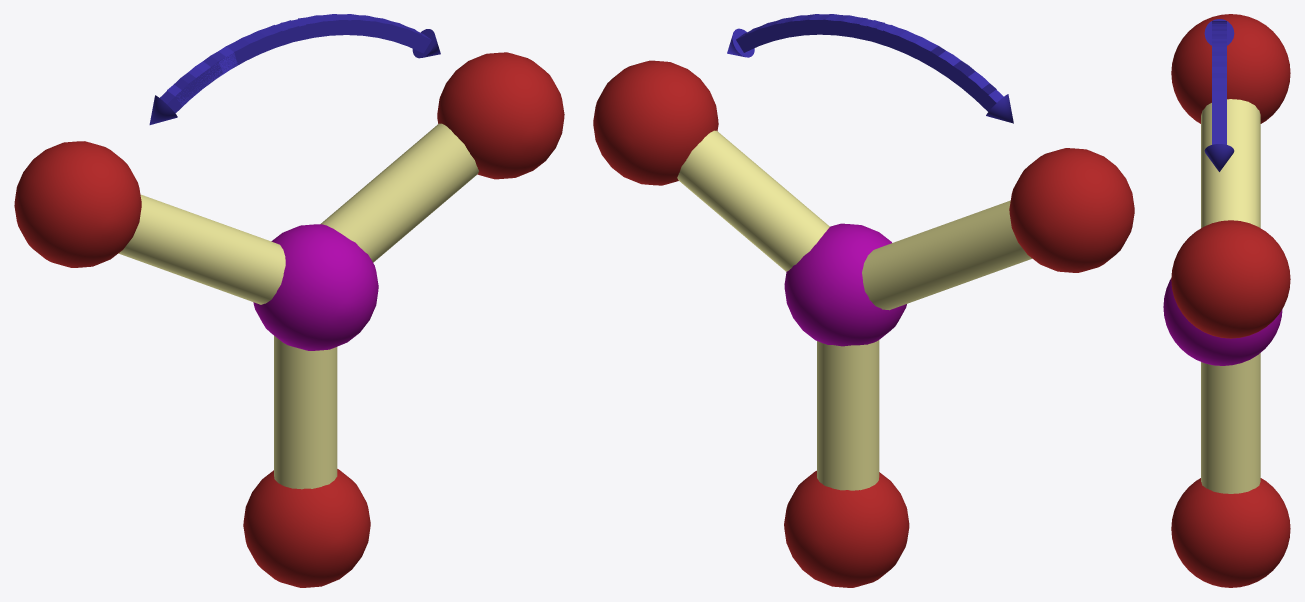
Rendered from trigPlan.fbx.
3 views of the same model, side by side, from view 1: azimuth 30°, elevation 25°; view 2: azimuth 150°, elevation 25°; view 3: azimuth 270°, elevation 25° (orthographic). The views are drawn at different scales.
Visible parts, largest first — view 1: Nuke2, arrowHead3; view 2: Nuke2, arrowHead3; view 3: Nuke2, arrowHead3.
Part boxes in pixels (x1,y1,x2,y2): Nuke2: (14, 52, 564, 587); arrowHead3: (149, 14, 440, 124); Nuke2: (593, 60, 1134, 587); arrowHead3: (727, 14, 1013, 123); Nuke2: (1163, 14, 1290, 587); arrowHead3: (1204, 19, 1234, 171).
Size of the model in its own units: 19.31 by 19.66 by 4.26.
